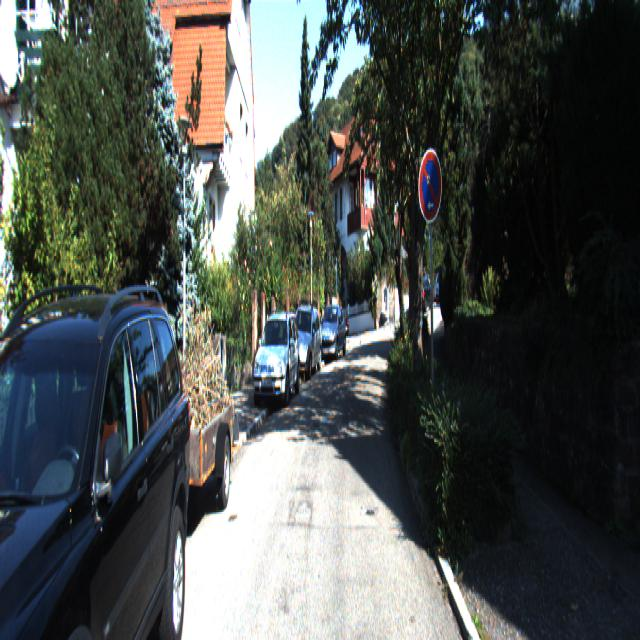Car: (0, 251, 191, 638), (138, 386, 241, 542), (252, 308, 302, 412), (287, 302, 322, 382), (318, 301, 346, 361), (413, 278, 434, 319)
